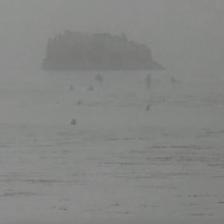surfer: (170, 76, 181, 84), (95, 73, 104, 82), (142, 74, 151, 82), (143, 104, 151, 112), (86, 84, 94, 92), (70, 118, 78, 126), (68, 85, 75, 92), (75, 99, 83, 105)
